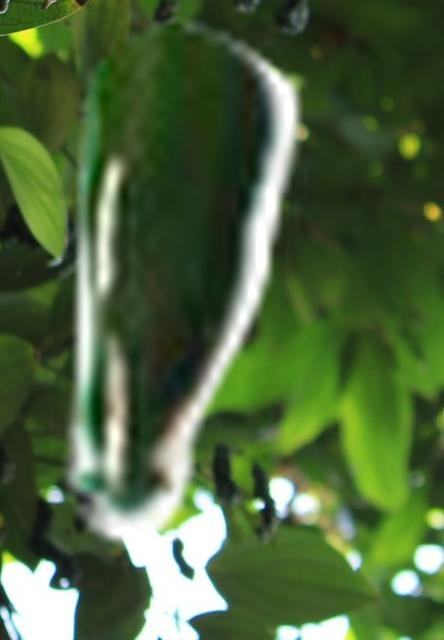green_chili: (50, 13, 306, 548)
